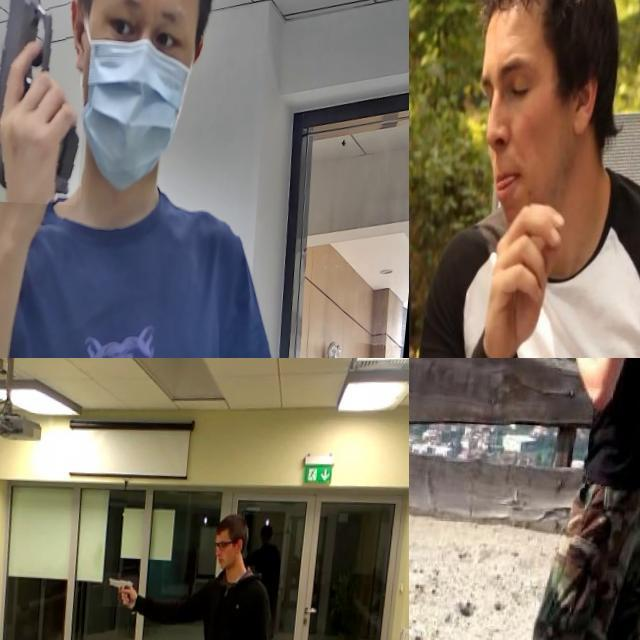-: (409, 218, 452, 358), (409, 358, 425, 418)
gun-knife-thesis - v11 Yolov5 augmented: (0, 0, 105, 202), (108, 570, 144, 606)
